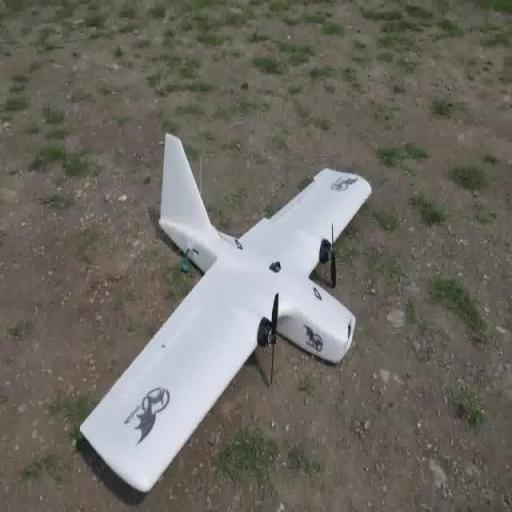uav: (78, 122, 375, 498)
